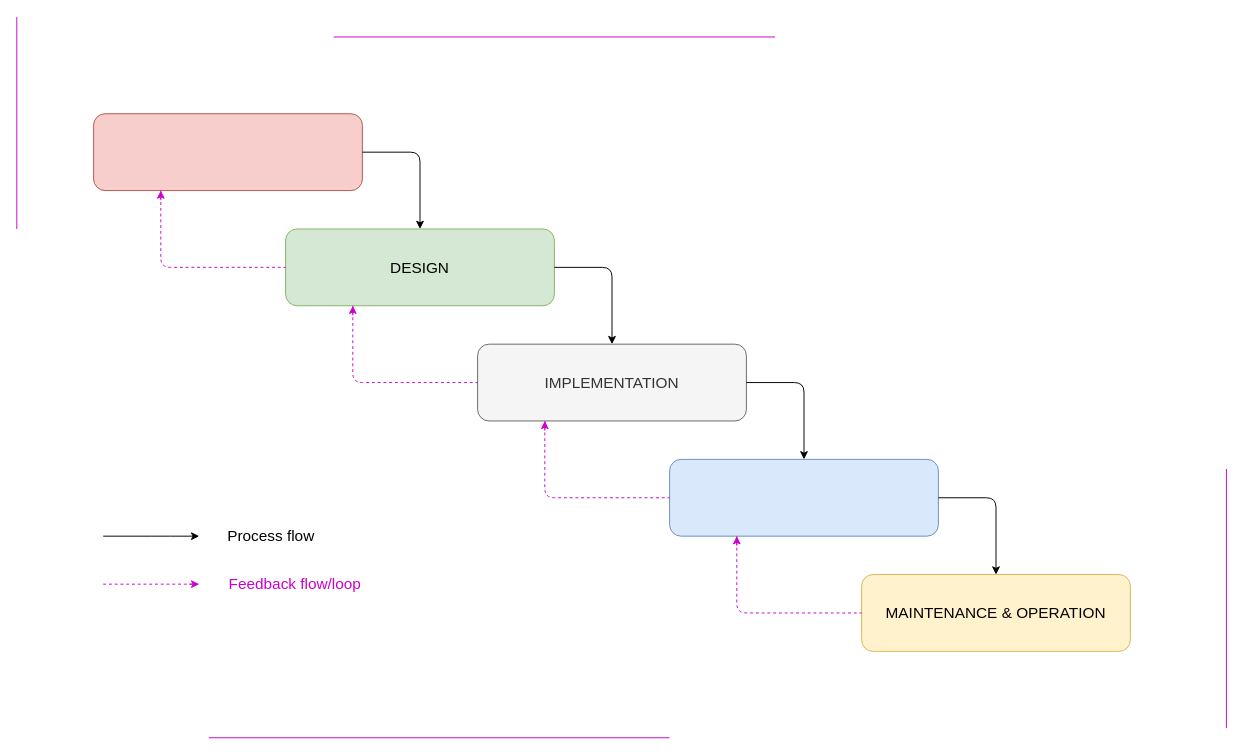
Image size: 1244x756. Some labels were removed from this diagram. The shapes that lost their labels are listed below. From the top down, each one's centre as x and y in pixels, then its label:
[227,152]: REQUIREMENTS & ANALYSIS
[803,497]: TESTING
